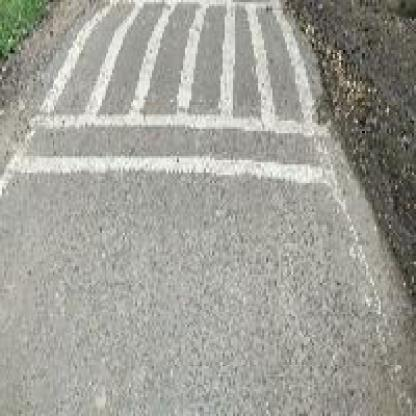Speed Bump: (6, 2, 329, 187)
